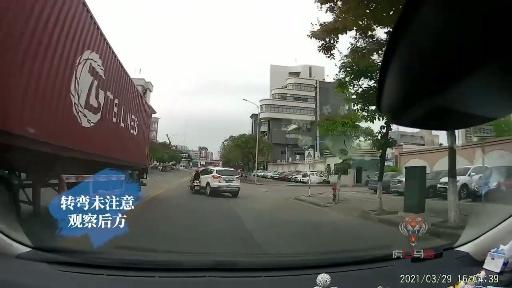Accident: (187, 160, 245, 204)
Bike: (188, 170, 202, 195)
CAR: (204, 165, 243, 198)
